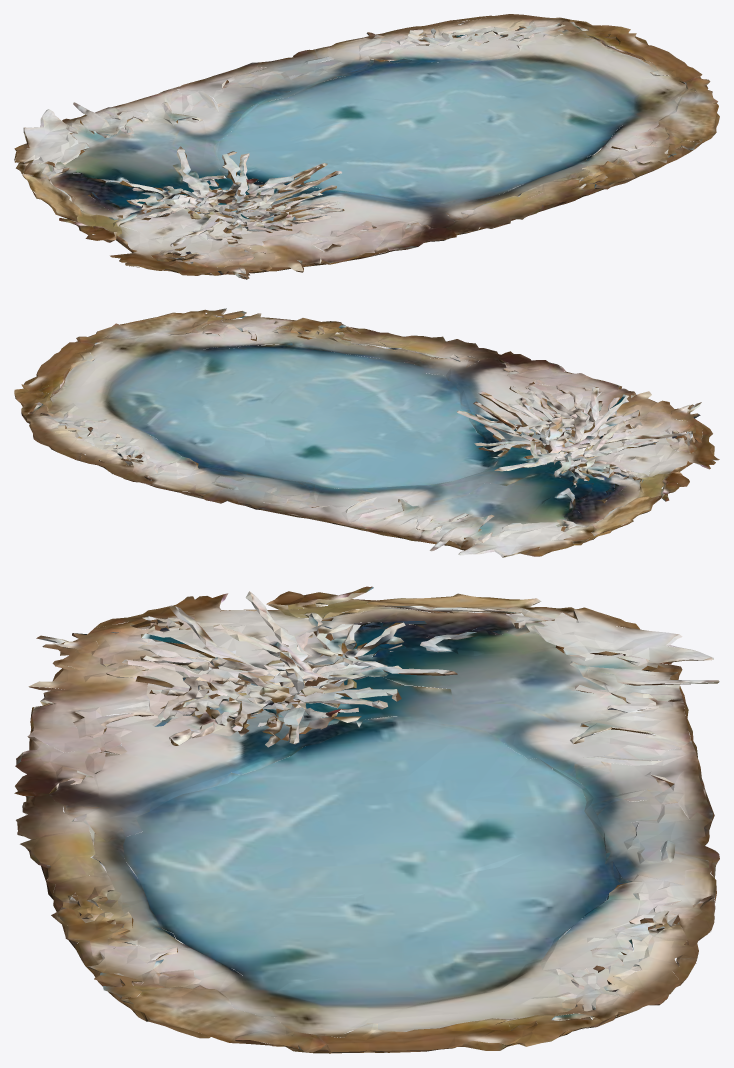
Rendered from wt-outpost-frozen-pond.glb.
The picture shows the model from 3 angles, top to bottom: view 1: azimuth 30°, elevation 25°; view 2: azimuth 150°, elevation 25°; view 3: azimuth 270°, elevation 25°; orthographic projection. The views are drawn at different scales.
Parts seen in each view (by area): view 1: tmpx0qx6i94.ply; view 2: tmpx0qx6i94.ply; view 3: tmpx0qx6i94.ply.
Boxes of the visible parts, x1,y1,x2,y2 form: tmpx0qx6i94.ply: (14,14,719,279); tmpx0qx6i94.ply: (14,308,719,557); tmpx0qx6i94.ply: (14,586,719,1053).
Bounding box in the file's own units: 5 × 0.26 × 3.19.
1 material, 1 textured.
